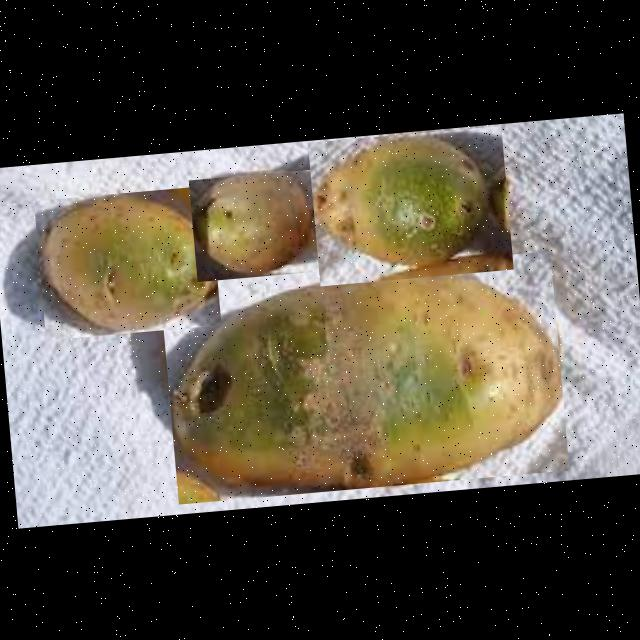Defected potato: (158, 250, 568, 503), (306, 125, 512, 285), (32, 184, 220, 339), (188, 167, 336, 280)
